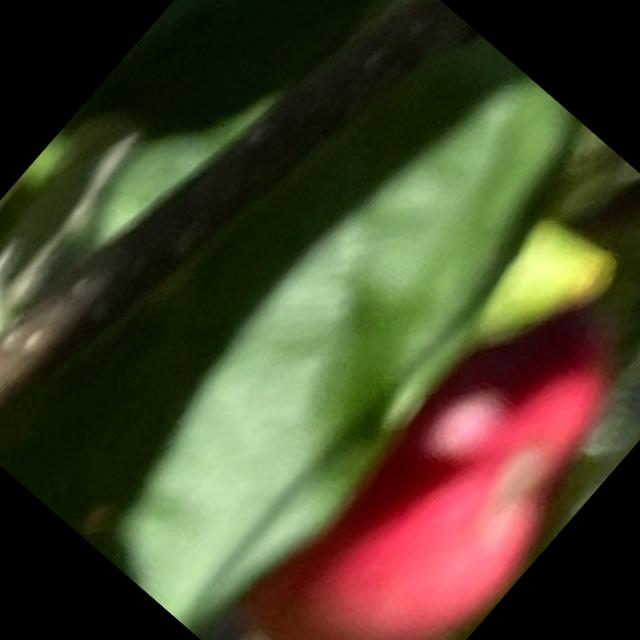Apples: (236, 265, 639, 639)
